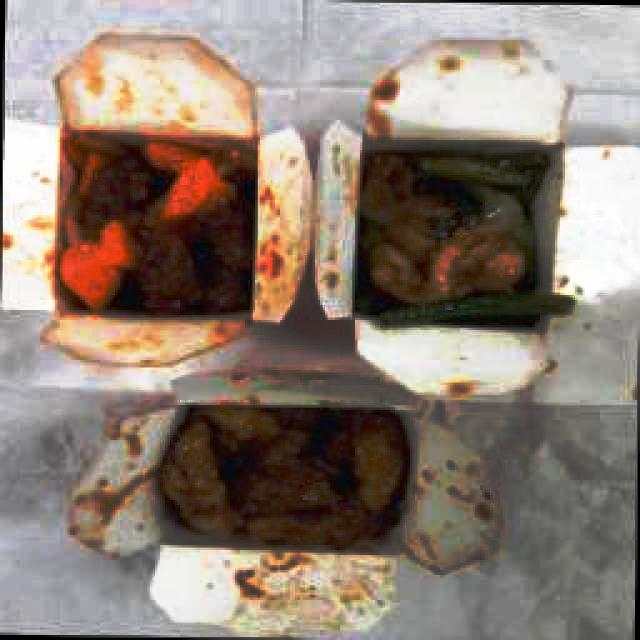Beijing Beef: (55, 129, 256, 313)
Kung Pao Chicken: (154, 405, 411, 552)
String Bean Chicken Breast: (361, 146, 573, 334)
